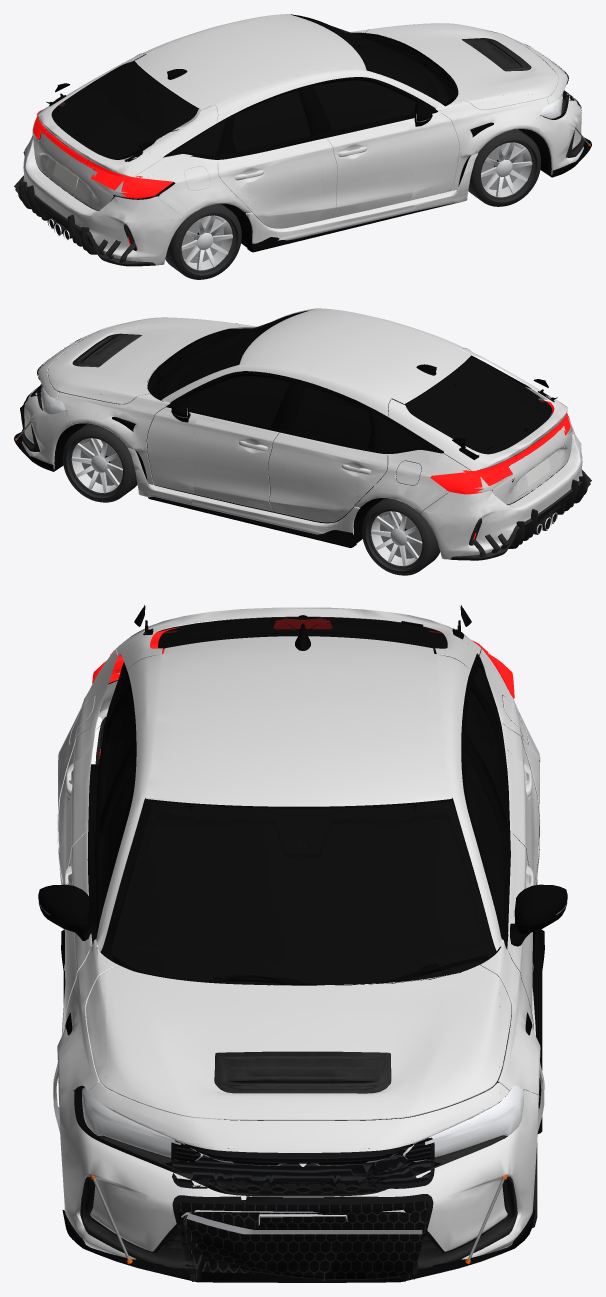
File: hondo_civix.glb
3 renders of one model, top to bottom at view 1: azimuth 30°, elevation 25°; view 2: azimuth 150°, elevation 25°; view 3: azimuth 270°, elevation 25°, orthographic. The views are drawn at different scales.
Visible parts, largest first — view 1: core, part_glass, part_roof, part_fender_fr, part_door_fr, part_hood, part_door_rr, part_quarter_rr, part_trunk, part_rear_bumper, wheel_rr, wheel_fr (+3 smaller); view 2: core, part_glass, part_roof, part_door_fl, part_hood, part_fender_fl, part_door_rl, part_trunk, part_quarter_rl, part_rear_bumper, wheel_rl, wheel_fl (+5 smaller); view 3: core, part_glass, part_hood, part_roof, part_front_bumper, liner_trim, part_fender_fr, part_fender_fl, part_trunk, headlight_l, part_quarter_rr, part_quarter_rl (+5 smaller).
Boxes of the visible parts, box(x1,y1,x2,y2) form: core: box(14, 14, 591, 266); part_glass: box(51, 17, 448, 158); part_roof: box(69, 14, 407, 156); part_fender_fr: box(407, 86, 564, 211); part_door_fr: box(317, 120, 414, 232); part_hood: box(349, 23, 566, 102); part_door_rr: box(241, 140, 322, 243); part_quarter_rr: box(125, 155, 249, 221); part_trunk: box(24, 94, 183, 221); part_rear_bumper: box(23, 145, 183, 265); wheel_rr: box(165, 203, 241, 279); wheel_fr: box(468, 129, 540, 206); core: box(14, 310, 591, 560); part_glass: box(154, 314, 552, 453); part_roof: box(198, 308, 536, 451); part_door_fl: box(191, 414, 288, 526); part_hood: box(39, 314, 289, 401); part_fender_fl: box(42, 384, 198, 505); part_door_rl: box(283, 434, 364, 534); part_trunk: box(424, 388, 581, 515); part_quarter_rl: box(356, 450, 480, 516); part_rear_bumper: box(422, 439, 582, 559); wheel_rl: box(362, 498, 440, 575); wheel_fl: box(62, 423, 137, 502); core: box(38, 605, 567, 1282); part_glass: box(102, 616, 503, 985); part_hood: box(104, 862, 500, 1149); part_roof: box(112, 635, 485, 876); part_front_bumper: box(59, 1084, 538, 1259); liner_trim: box(90, 844, 507, 1281); part_fender_fr: box(53, 898, 154, 1133); part_fender_fl: box(450, 915, 544, 1132); part_trunk: box(57, 607, 540, 762); headlight_l: box(267, 1085, 523, 1221); part_quarter_rr: box(57, 651, 122, 851); part_quarter_rl: box(474, 650, 540, 848).
Size of the model in its own units: 4.6 by 1.41 by 2.07.
21 materials, 6 textured.
